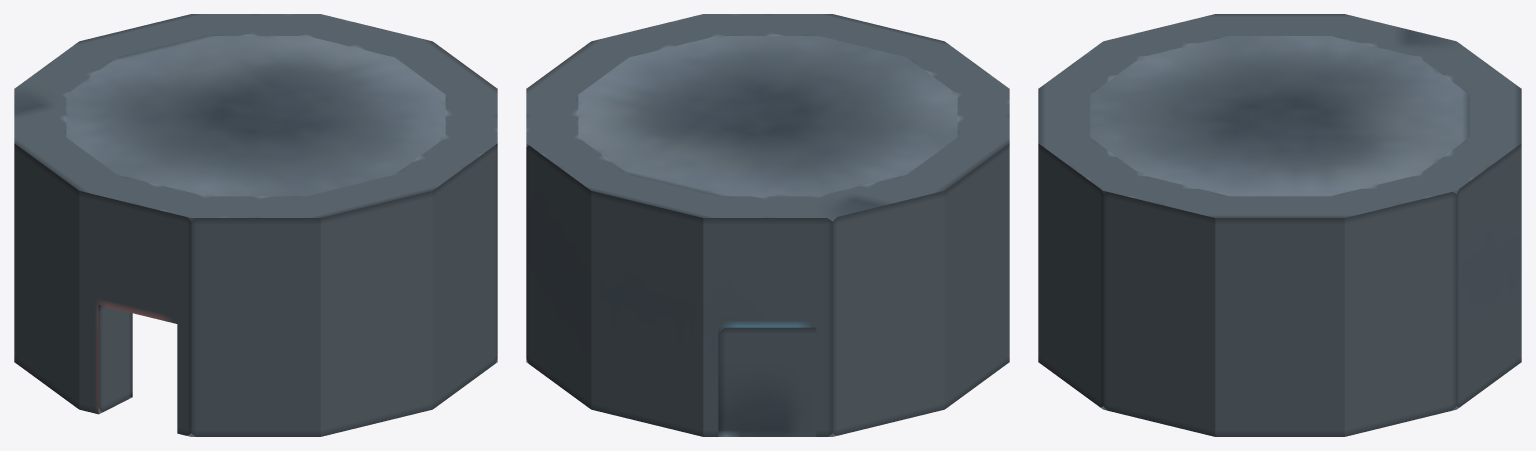
The model's file is endCyllinder.fbx.
3 renders of one model, left to right at view 1: azimuth 30°, elevation 25°; view 2: azimuth 150°, elevation 25°; view 3: azimuth 270°, elevation 25°, orthographic.
Visible parts, largest first — view 1: tube; view 2: tube; view 3: tube.
Part boxes in pixels (x1,y1,x2,y2): tube: [14, 14, 497, 436]; tube: [526, 14, 1009, 436]; tube: [1038, 14, 1521, 436].
Bounding box in the file's own units: 1.56 × 0.7812 × 1.56.
1 material, 1 textured.
